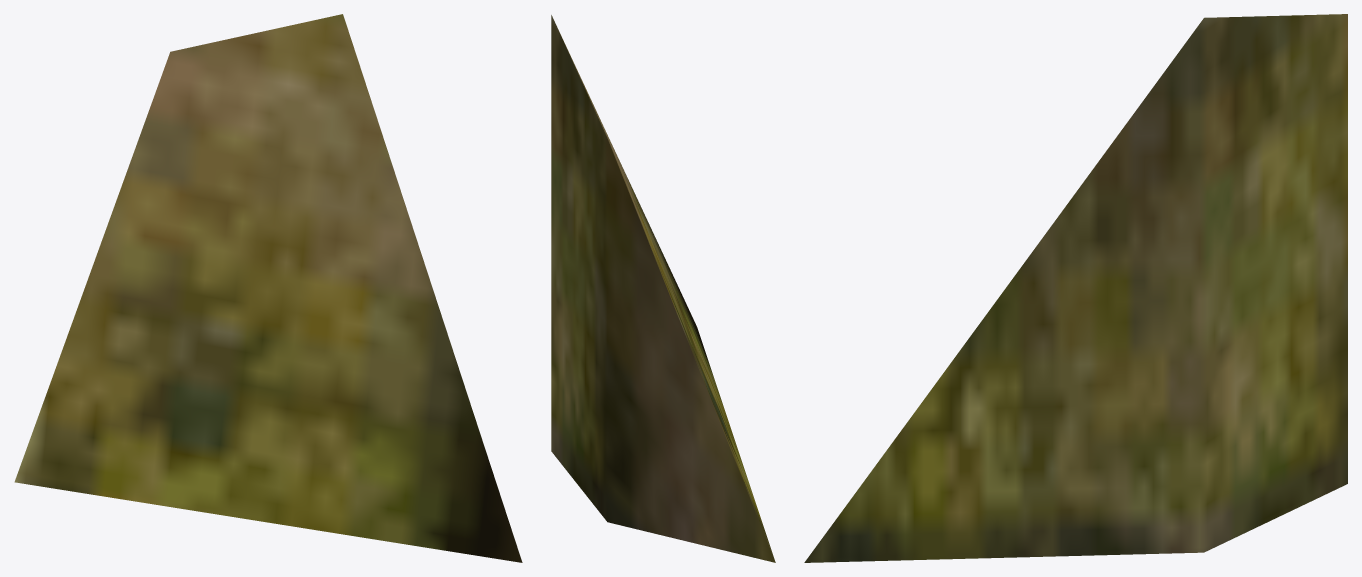
File: OVERHILL_A_01_OBJECT218.fbx
The picture shows the model from 3 angles, left to right: view 1: azimuth 30°, elevation 25°; view 2: azimuth 150°, elevation 25°; view 3: azimuth 270°, elevation 25°; orthographic projection. The views are drawn at different scales.
Parts seen in each view (by area): view 1: OVERHILL_A_01_OBJECT218; view 2: OVERHILL_A_01_OBJECT218; view 3: OVERHILL_A_01_OBJECT218.
Part boxes in pixels (<box>): OVERHILL_A_01_OBJECT218: <box>14,14,522,562</box>; OVERHILL_A_01_OBJECT218: <box>551,15,775,562</box>; OVERHILL_A_01_OBJECT218: <box>804,14,1347,562</box>.
Size of the model in its own units: 2322 by 3328 by 3030.
1 material, 1 textured.
